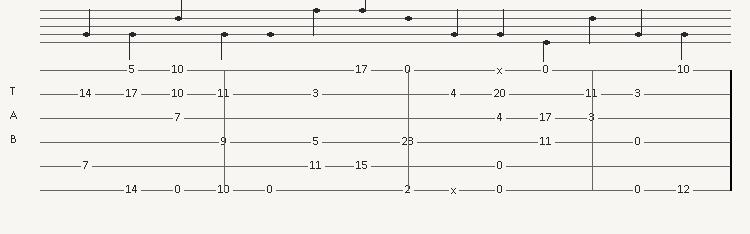0: (175, 184, 185, 196), (267, 184, 277, 196), (405, 64, 415, 76), (497, 160, 507, 172), (497, 184, 507, 196), (543, 64, 553, 76), (635, 136, 645, 148), (635, 184, 645, 196)
10: (172, 88, 188, 100), (172, 64, 188, 76), (218, 184, 234, 196), (678, 64, 694, 76)
11: (218, 88, 234, 100), (310, 160, 326, 172), (540, 136, 556, 148), (586, 88, 602, 100)
12: (678, 184, 694, 196)
14: (80, 88, 96, 100), (126, 184, 142, 196)
15: (356, 160, 372, 172)
17: (126, 88, 142, 100), (356, 64, 372, 76), (540, 112, 556, 124)
2: (405, 184, 415, 196)
20: (494, 88, 510, 100)
23: (402, 136, 418, 148)
3: (313, 88, 323, 100), (589, 112, 599, 124), (635, 88, 645, 100)
4: (451, 88, 461, 100), (497, 112, 507, 124)
5: (129, 64, 139, 76), (313, 136, 323, 148)
7: (83, 160, 93, 172), (175, 112, 185, 124)
9: (221, 136, 231, 148)
x: (451, 185, 460, 195), (497, 65, 506, 75)
